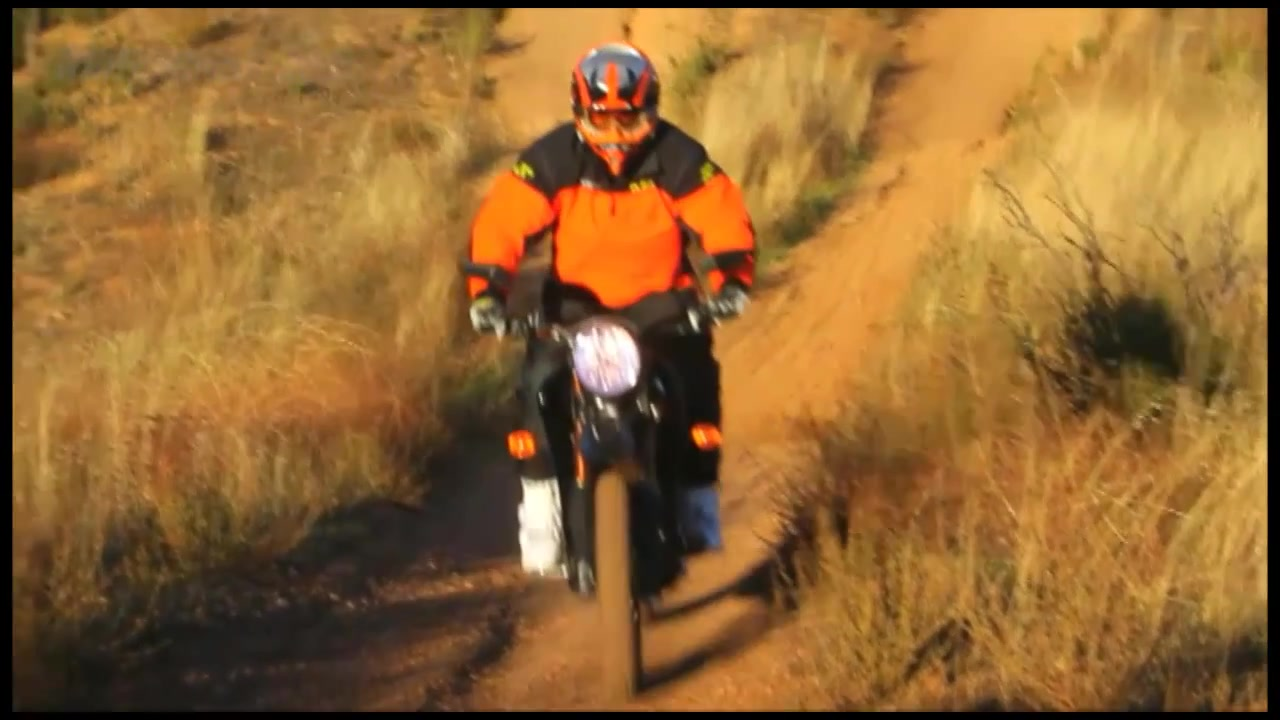motorbike: (476, 285, 744, 708)
